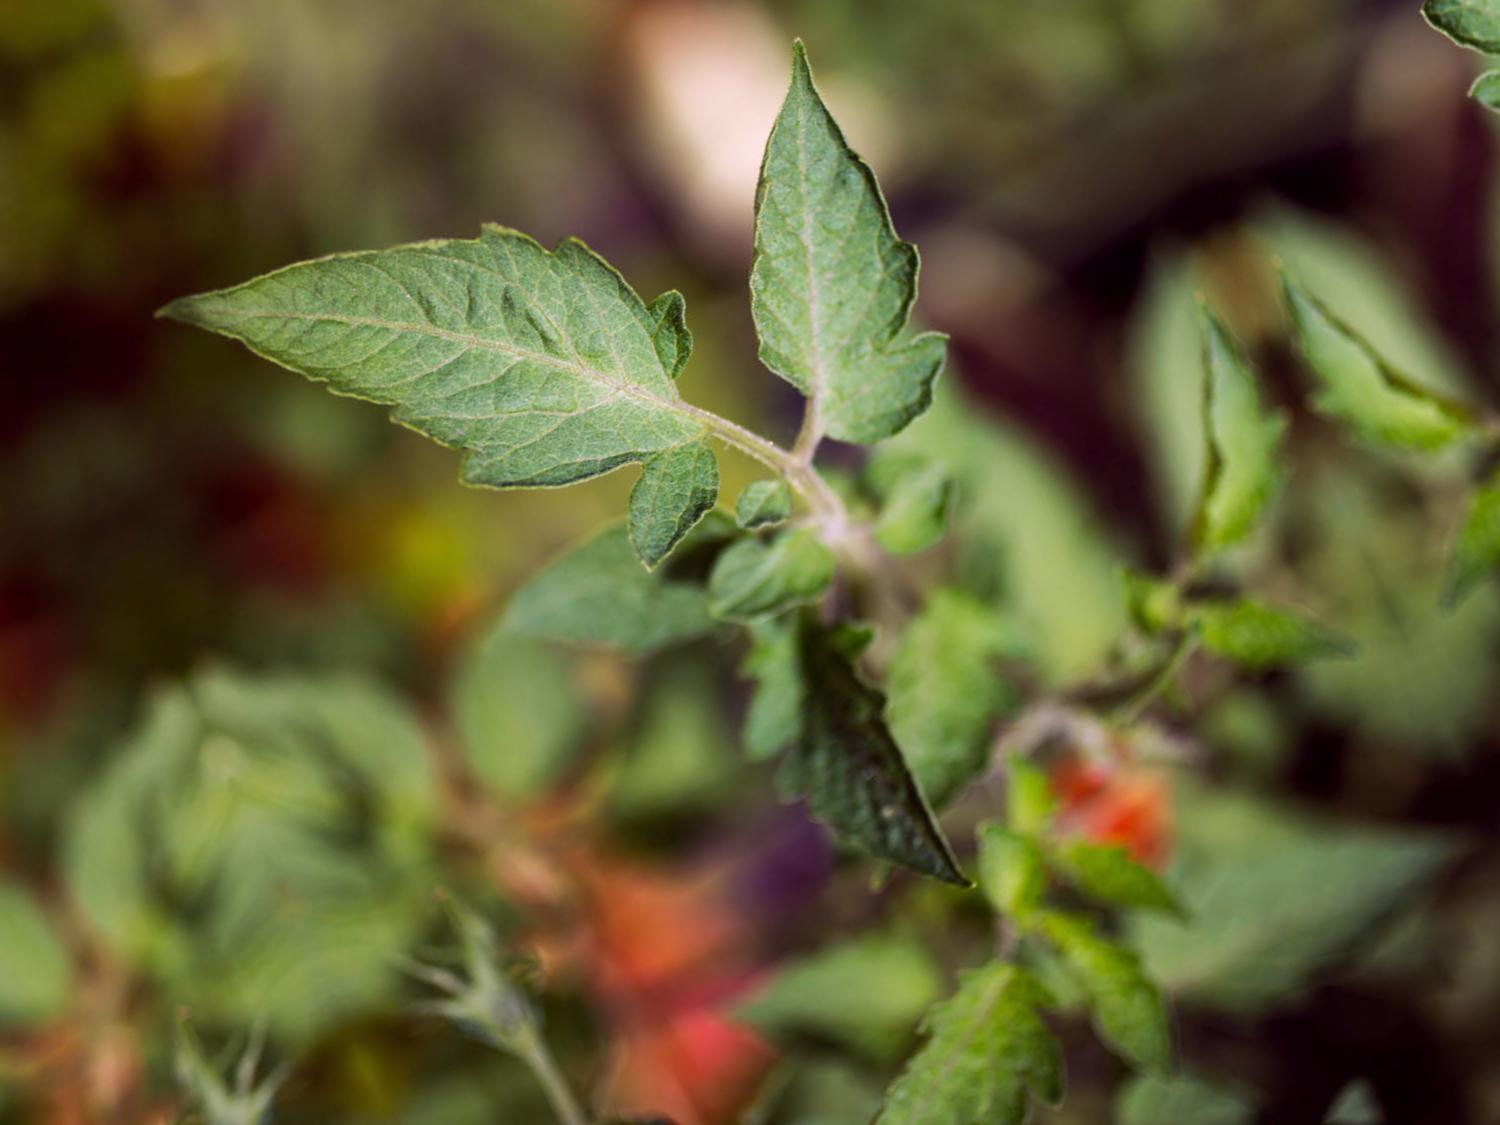Tomato leaf: (93, 54, 750, 674), (618, 0, 1023, 518)
